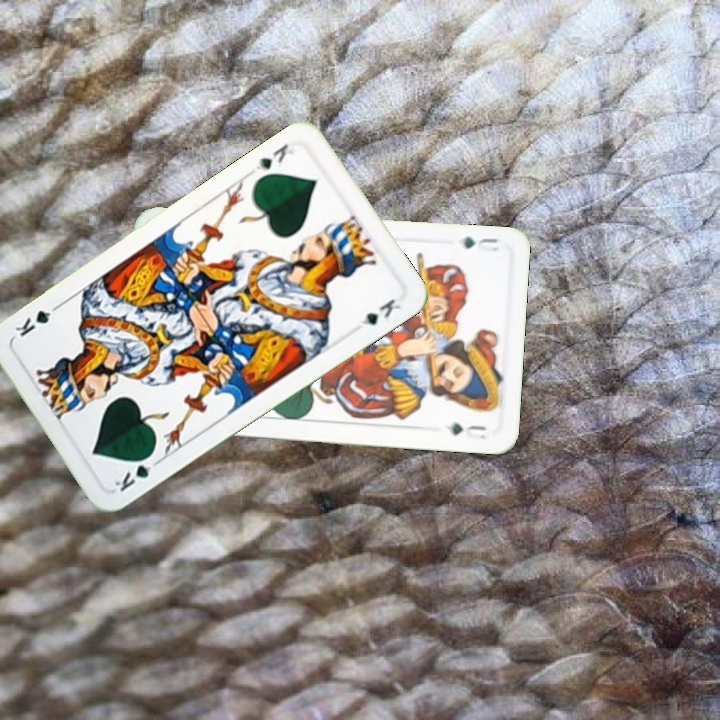GK: (110, 449, 163, 494), (251, 139, 297, 173)
GU: (458, 233, 501, 255)
